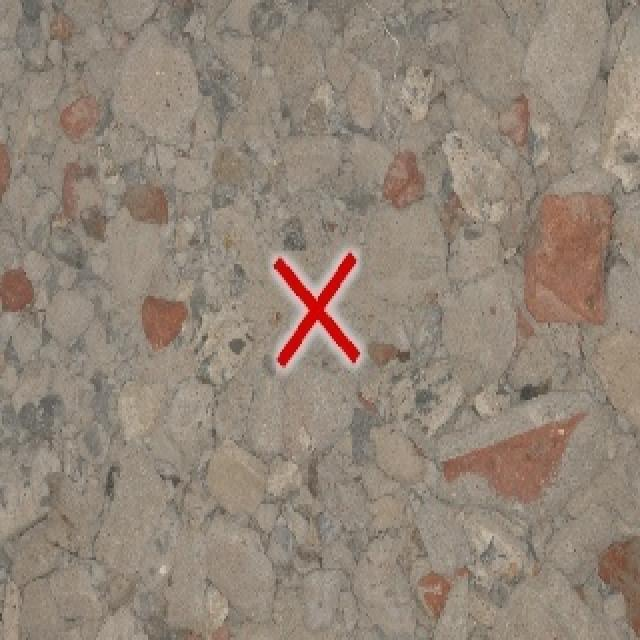x_marker: (273, 252, 359, 367)
